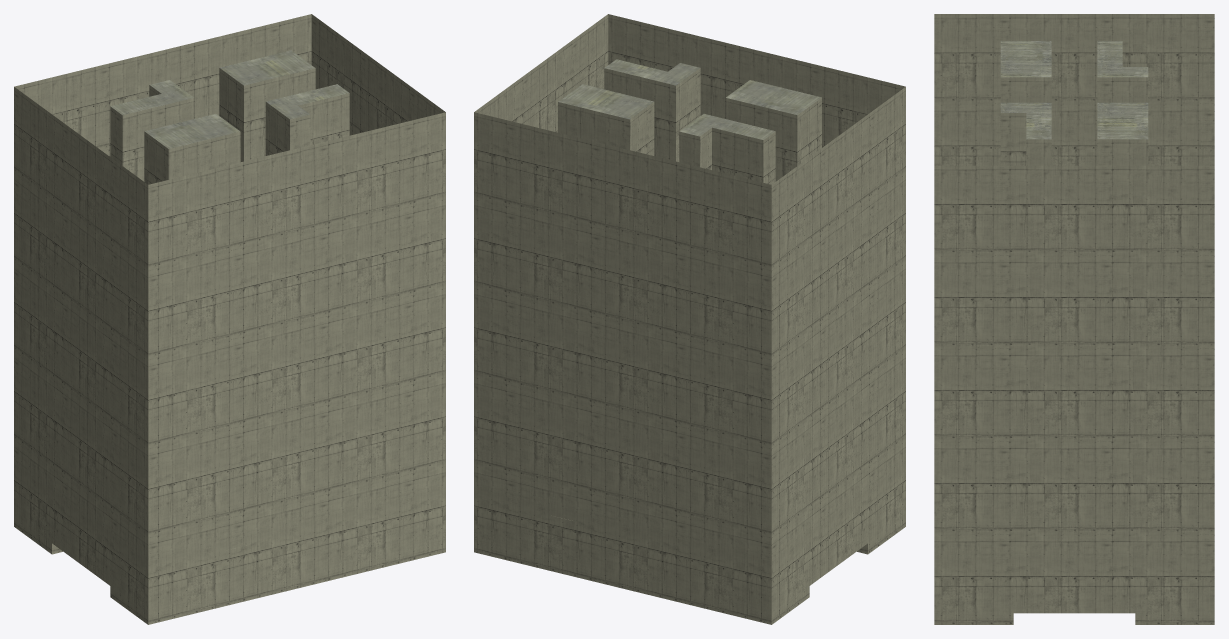
The model's file is SM_NeoLD_07_Block_00.fbx.
The picture shows the model from 3 angles, left to right: view 1: azimuth 30°, elevation 25°; view 2: azimuth 150°, elevation 25°; view 3: azimuth 270°, elevation 25°; orthographic projection. The views are drawn at different scales.
Parts seen in each view (by area): view 1: SM_NeoLD_07_Block_00; view 2: SM_NeoLD_07_Block_00; view 3: SM_NeoLD_07_Block_00.
Part boxes in pixels (<box>): SM_NeoLD_07_Block_00: <box>14,14,445,624</box>; SM_NeoLD_07_Block_00: <box>474,14,905,624</box>; SM_NeoLD_07_Block_00: <box>934,14,1214,624</box>.
Bounding box in the file's own units: 2772 × 3916 × 2167.
